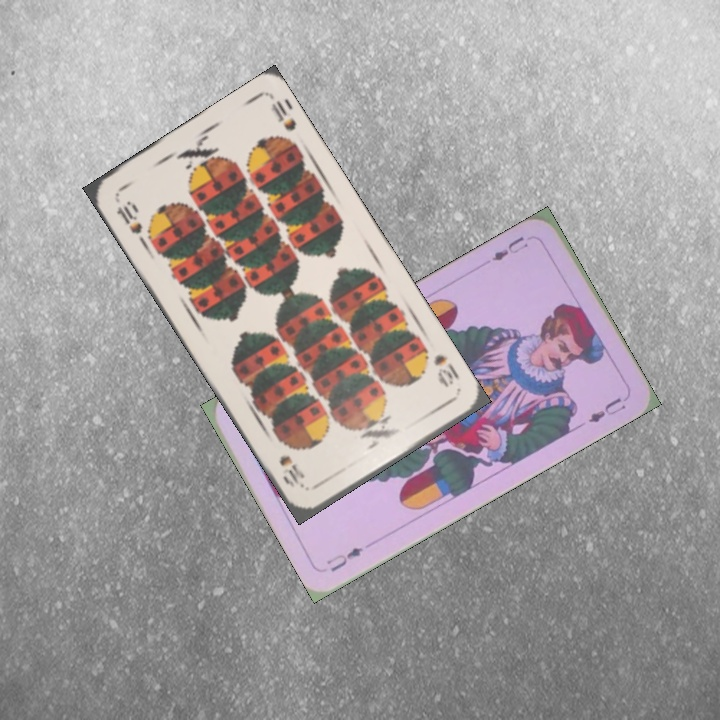EU: (322, 543, 366, 575), (487, 232, 527, 264)
S10: (429, 350, 462, 390), (112, 197, 145, 237)
